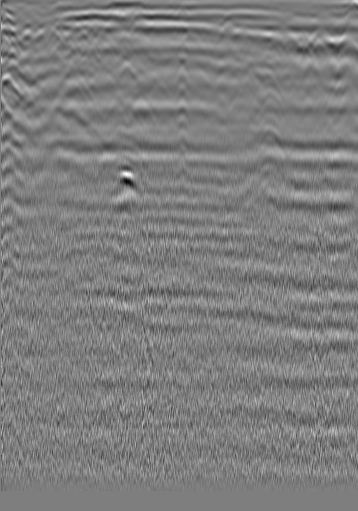가스: (105, 167, 141, 198)
상수: (18, 21, 38, 41)
오수: (306, 32, 326, 52)
우수: (178, 26, 198, 46)
